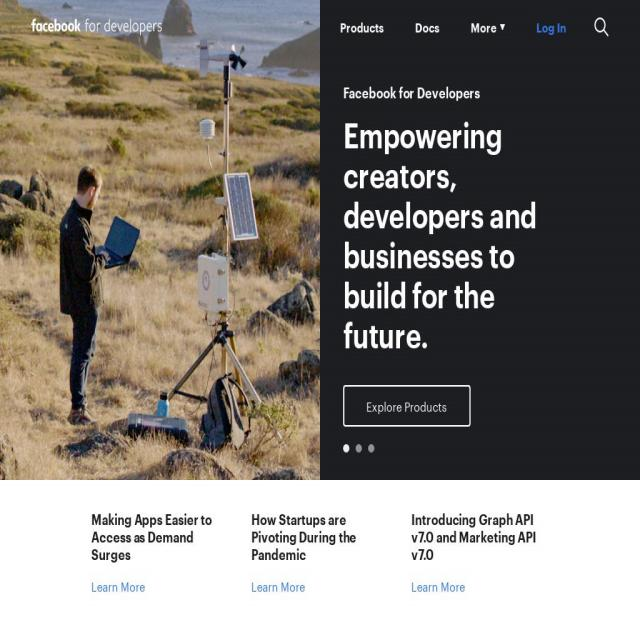login-option: (534, 13, 574, 47)
navigation-links: (329, 14, 525, 38)
search: (586, 5, 615, 48)
